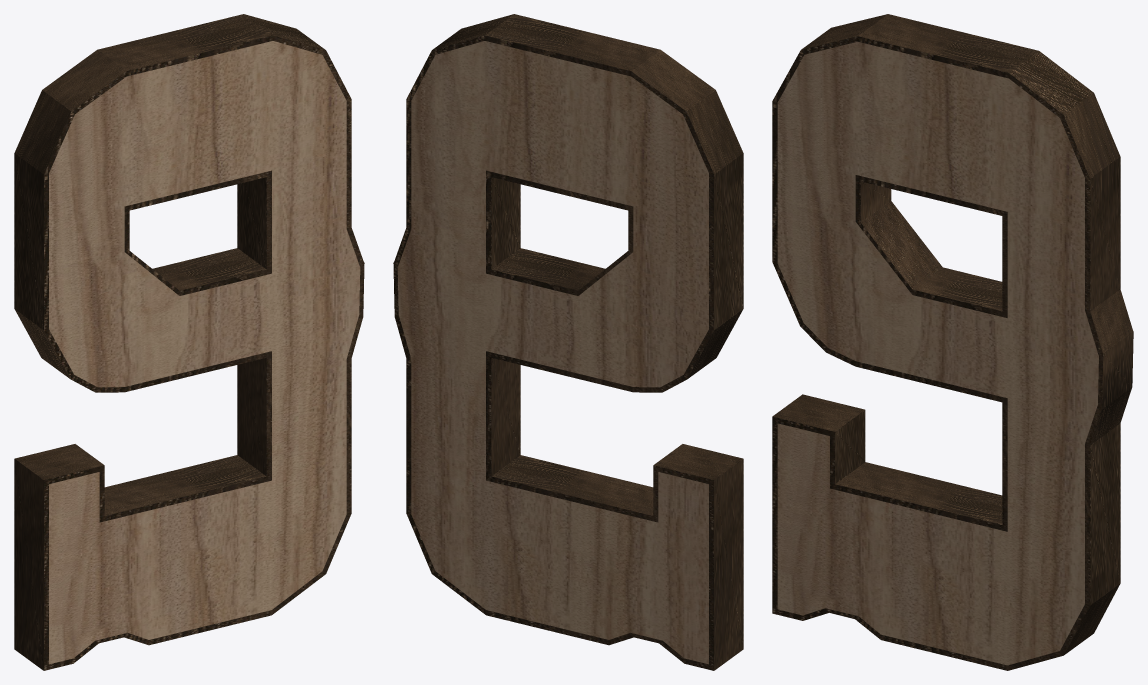
The picture shows the model from 3 angles, left to right: view 1: azimuth 30°, elevation 25°; view 2: azimuth 150°, elevation 25°; view 3: azimuth 330°, elevation 25°; orthographic projection. The views are drawn at different scales.
Visible parts, largest first — view 1: 9, 9_outline; view 2: 9, 9_outline; view 3: 9, 9_outline.
Boxes of the visible parts, <box> form: 9: <box>49,41,360,664</box>; 9_outline: <box>14,14,364,670</box>; 9: <box>397,41,708,664</box>; 9_outline: <box>393,14,743,670</box>; 9: <box>777,41,1098,665</box>; 9_outline: <box>772,14,1133,670</box>.
Size of the model in its own units: 63 by 109 by 10.
Materials: 2 (2 with a texture image).
